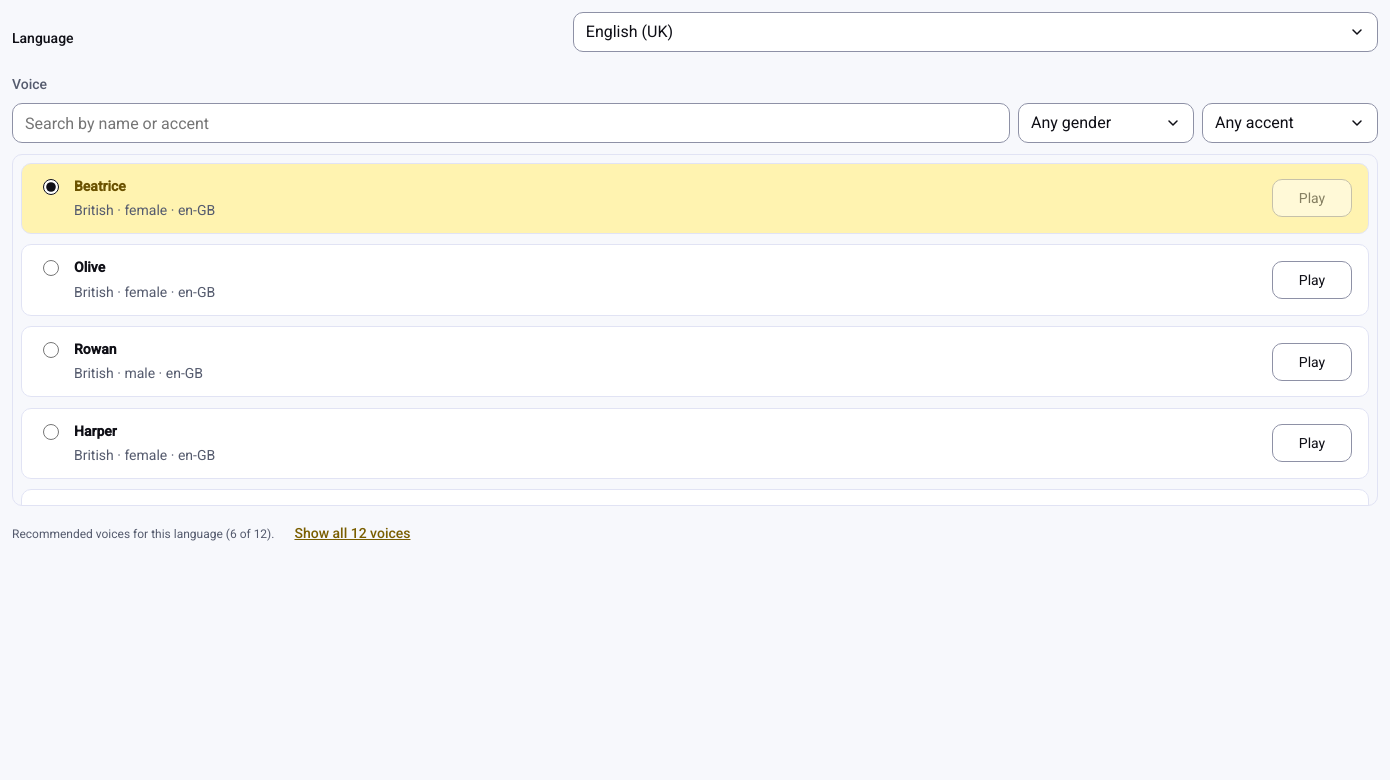
it: VoicePicker › filters every voice by search, gender and accent
This screenshot has width=1390, height=780.
Type "oscar" into the search field named "Search voices".
click(511, 123); type("oscar")  # box [12,103,1010,143]
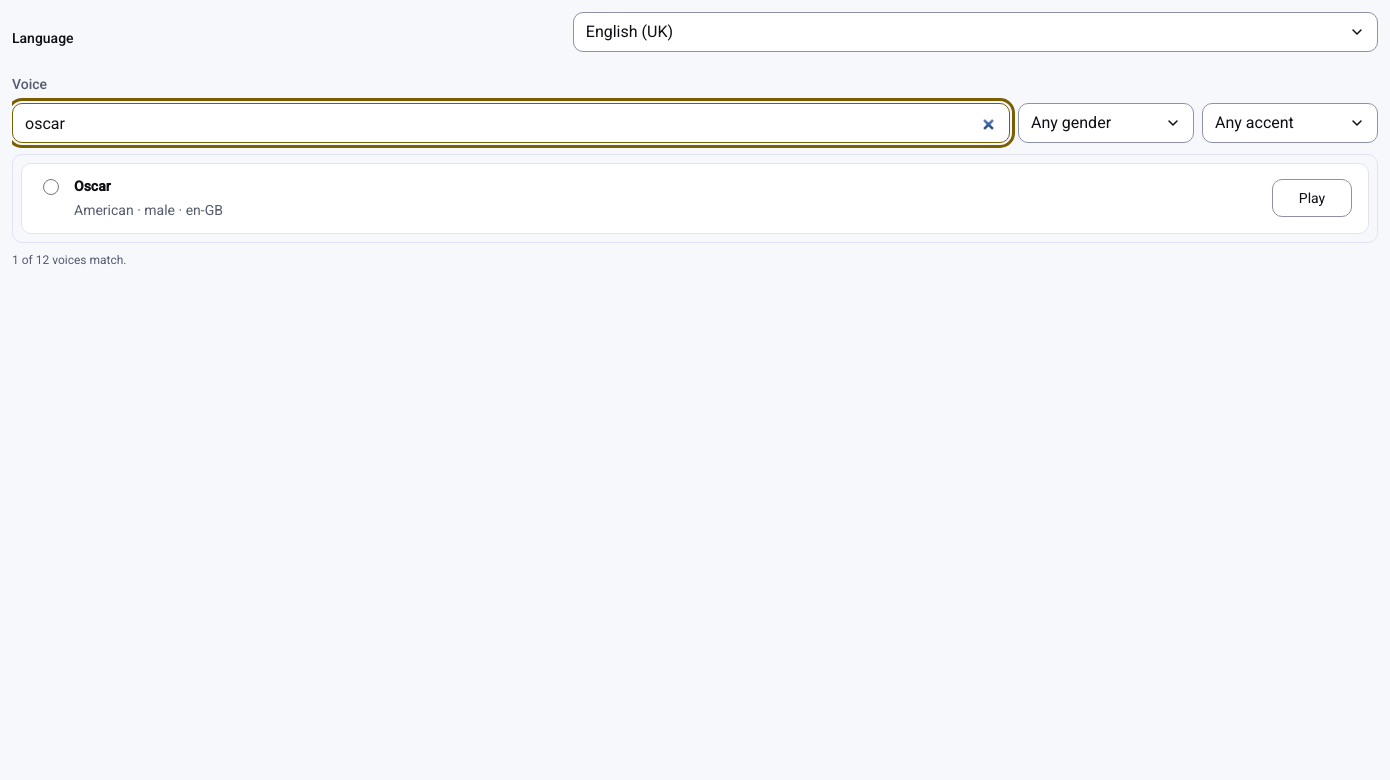
expect the text "1 of 12 voices match." is shown: met, box [12,253,126,267]
expect the button "Show all" is gone: met
Clear the search field named "Search voices" at (511, 123), box [12,103,1010,143]
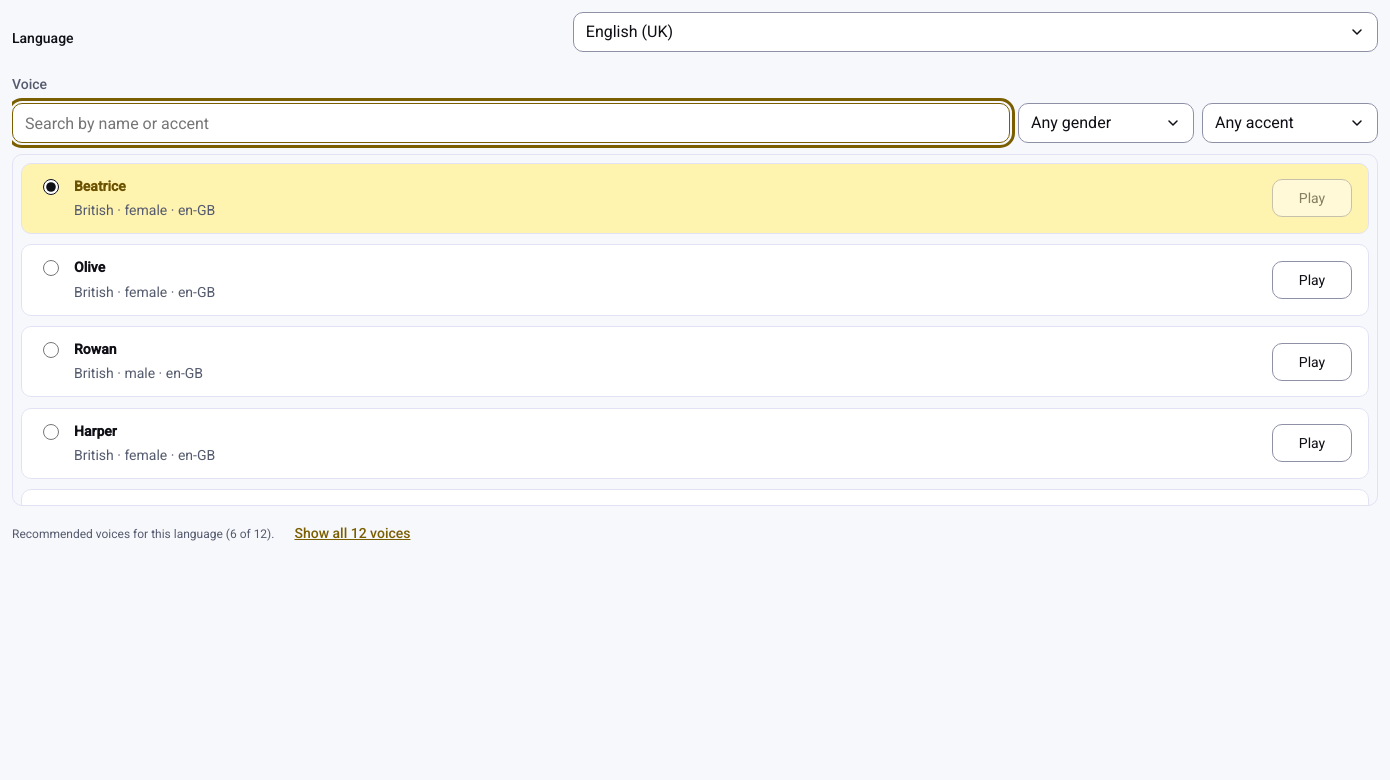
Select "Irish" in the dropdown named "Accent" at (1290, 123), box [1202,103,1378,143]
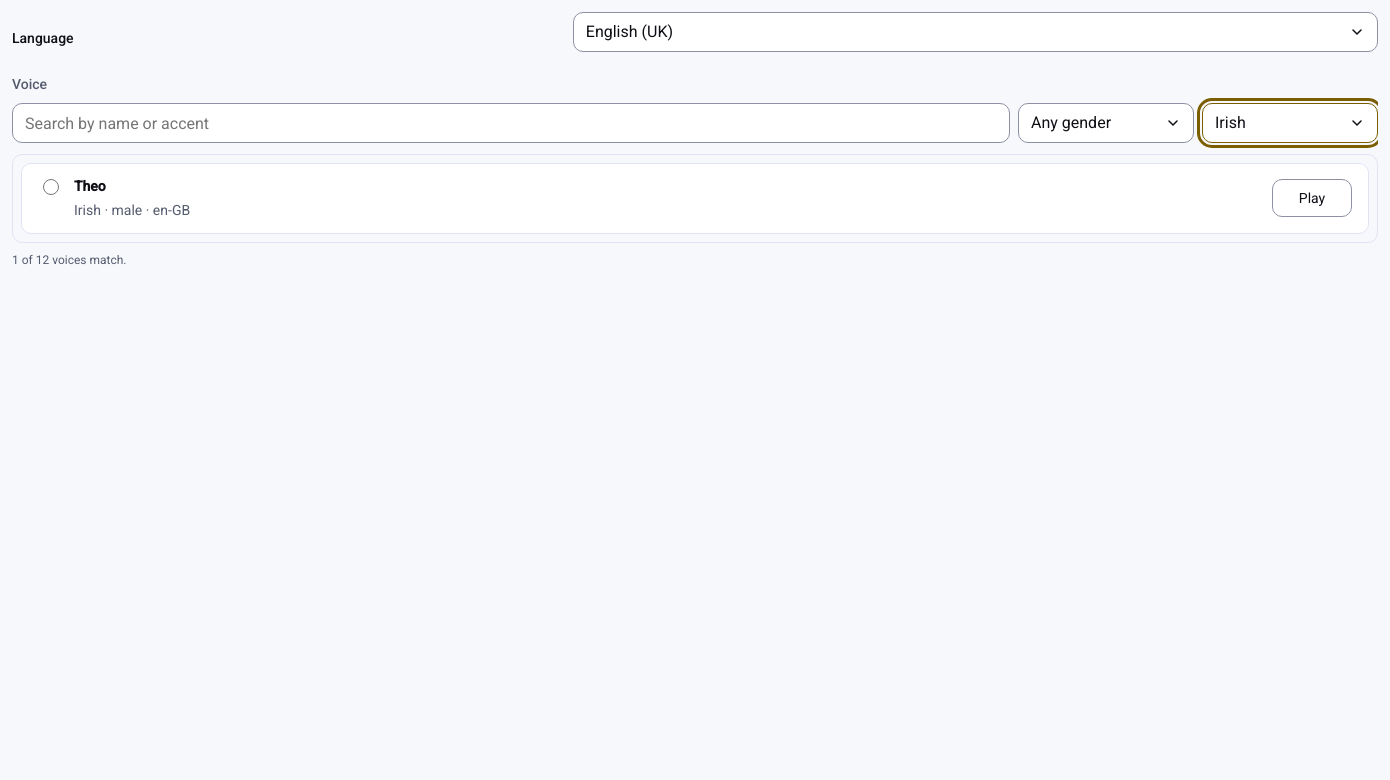
Select "Male" in the dropdown named "Gender" at (1106, 123), box [1018,103,1194,143]
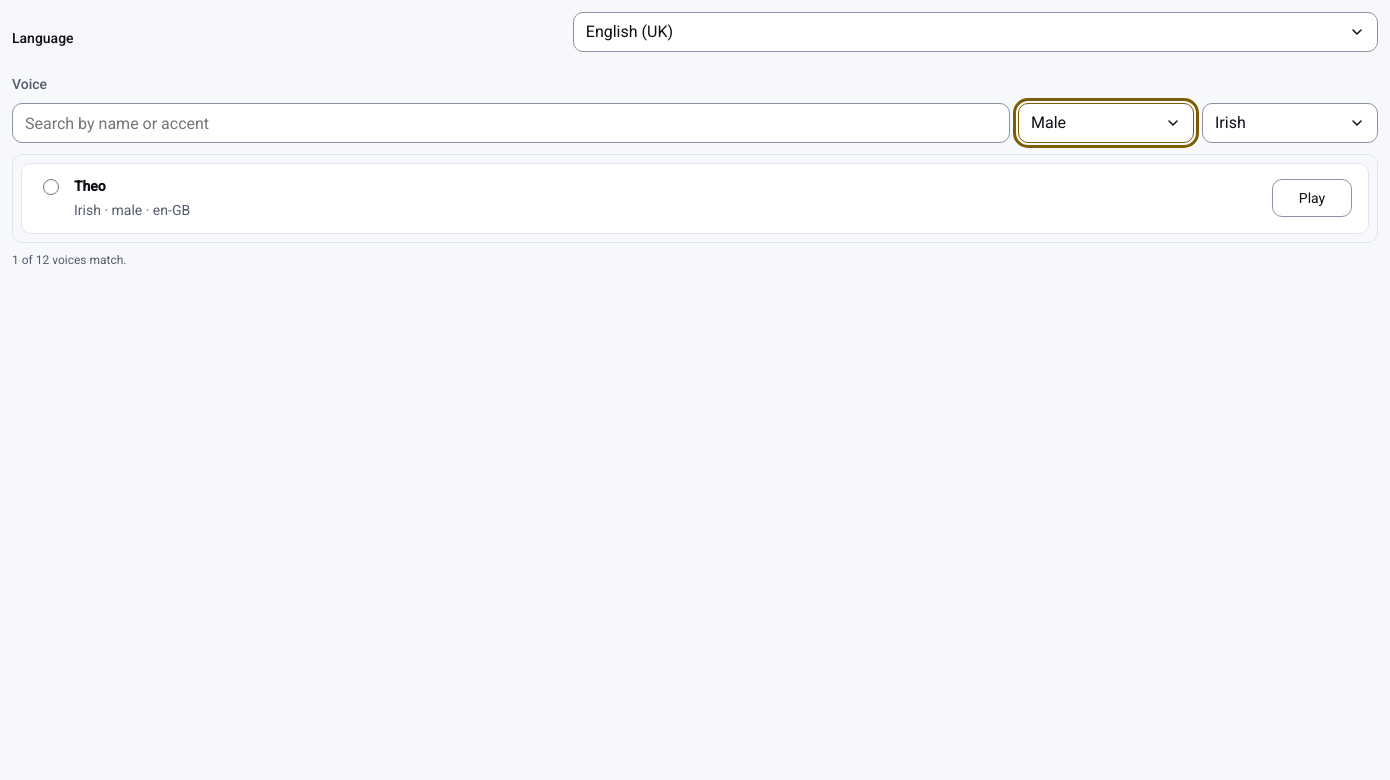
Type "nobody" into the search field named "Search voices".
click(511, 123); type("nobody")  # box [12,103,1010,143]
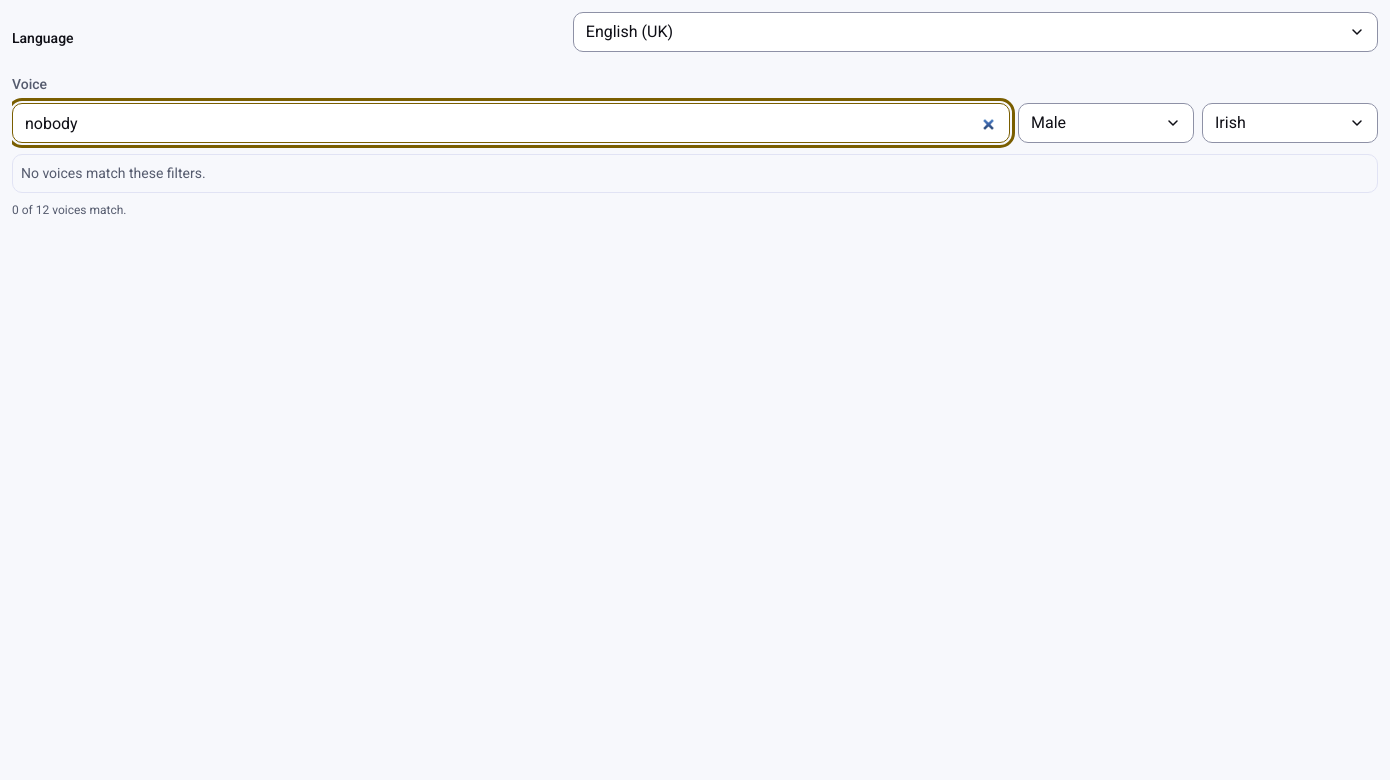
expect the text "No voices match these filters." is shown: met, box [21,165,206,181]
